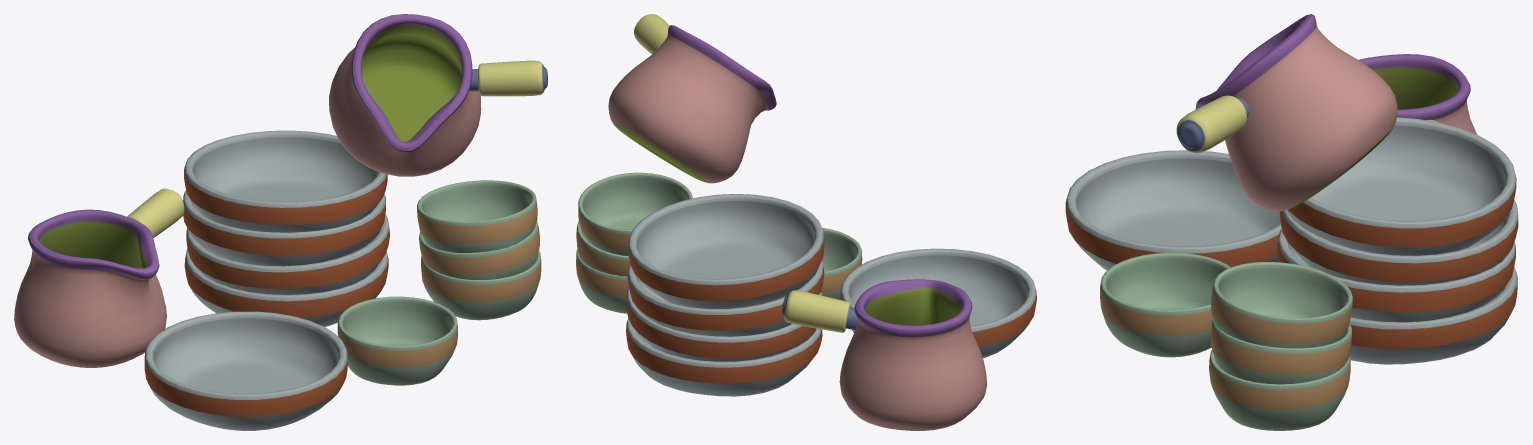
The model's file is soup_bits.fbx.
The picture shows the model from 3 angles, left to right: view 1: azimuth 30°, elevation 25°; view 2: azimuth 150°, elevation 25°; view 3: azimuth 270°, elevation 25°; orthographic projection. The views are drawn at different scales.
Parts seen in each view (by area): view 1: polySurface6 (×2), pCube77, pCube98, pCube85, pCube101, pCube97, pCube96, pCube95, pCube99, polySurface5 (×2), pCube100; view 2: polySurface6 (×2), pCube98, pCube77, pCube95, pCube101, pCube97, pCube96, polySurface5 (×2), pCube85, pCube99, pCube100; view 3: polySurface6 (×2), pCube98, pCube77, pCube85, pCube101, pCube97, pCube95, pCube96, pCube99, pCube100, polySurface5.
Part boxes in pixels (<box>): polySurface6 (×2): <box>14,14,481,367</box>; pCube77: <box>144,311,347,430</box>; pCube98: <box>184,130,387,232</box>; pCube85: <box>337,296,457,385</box>; pCube101: <box>417,180,537,252</box>; pCube97: <box>183,190,385,266</box>; pCube96: <box>186,214,389,294</box>; pCube95: <box>184,248,388,326</box>; pCube99: <box>421,251,541,320</box>; polySurface5 (×2): <box>127,60,547,237</box>; pCube100: <box>419,221,539,279</box>; polySurface6 (×2): <box>608,25,987,430</box>; pCube98: <box>628,194,824,308</box>; pCube77: <box>840,248,1036,358</box>; pCube95: <box>626,318,822,396</box>; pCube101: <box>578,172,692,255</box>; pCube97: <box>627,260,824,336</box>; pCube96: <box>626,287,822,361</box>; polySurface5 (×2): <box>634,14,857,332</box>; pCube85: <box>821,227,862,299</box>; pCube99: <box>576,250,628,313</box>; pCube100: <box>576,220,630,276</box>; polySurface6 (×2): <box>1195,14,1477,211</box>; pCube98: <box>1286,117,1516,255</box>; pCube77: <box>1065,150,1281,270</box>; pCube85: <box>1100,252,1230,357</box>; pCube101: <box>1211,262,1352,348</box>; pCube97: <box>1279,200,1518,285</box>; pCube95: <box>1349,267,1517,364</box>; pCube96: <box>1277,229,1515,322</box>; pCube99: <box>1209,350,1350,430</box>; pCube100: <box>1210,319,1351,384</box>; polySurface5: <box>1176,95,1249,153</box>.
Bounding box in the file's own units: 3.2 × 1.99 × 2.34.
